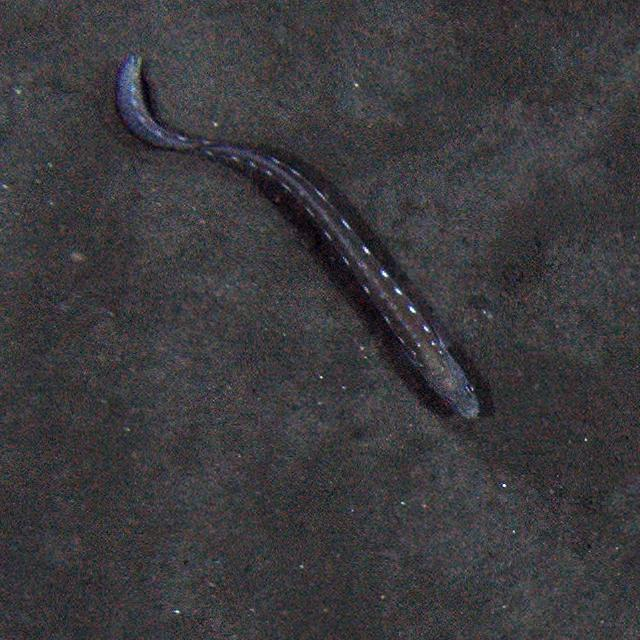roundfish: (116, 52, 491, 424)
